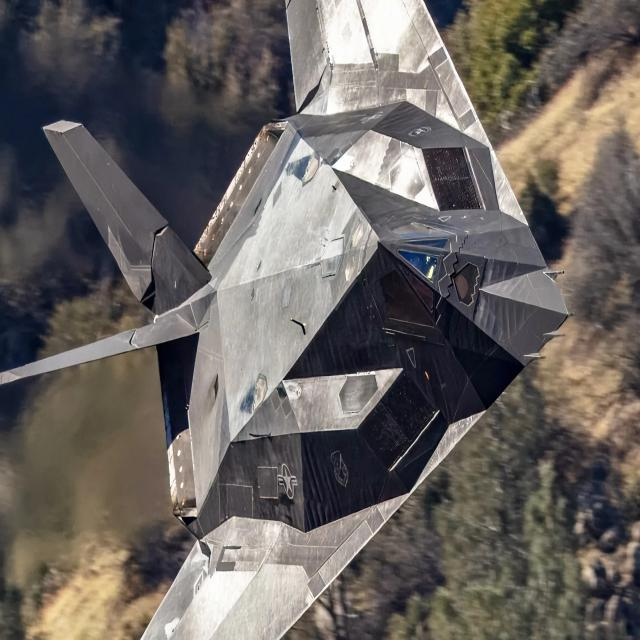F117: (2, 0, 574, 640)
